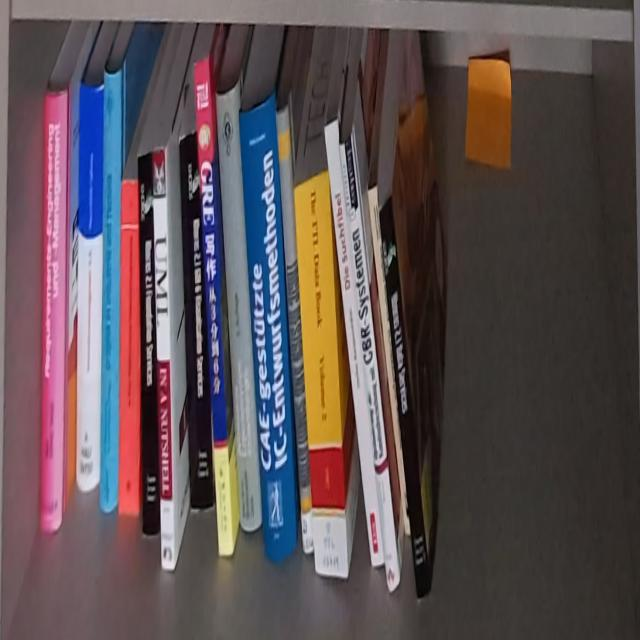Book Spine: (339, 132, 402, 592), (237, 93, 298, 567), (323, 118, 385, 569), (293, 175, 349, 579), (380, 198, 432, 604), (216, 84, 262, 535), (193, 55, 234, 559), (275, 106, 314, 551), (366, 184, 412, 544), (40, 79, 72, 535), (178, 134, 216, 512), (98, 63, 127, 514), (74, 81, 103, 496), (137, 149, 161, 538), (153, 146, 175, 568), (117, 178, 141, 516)
